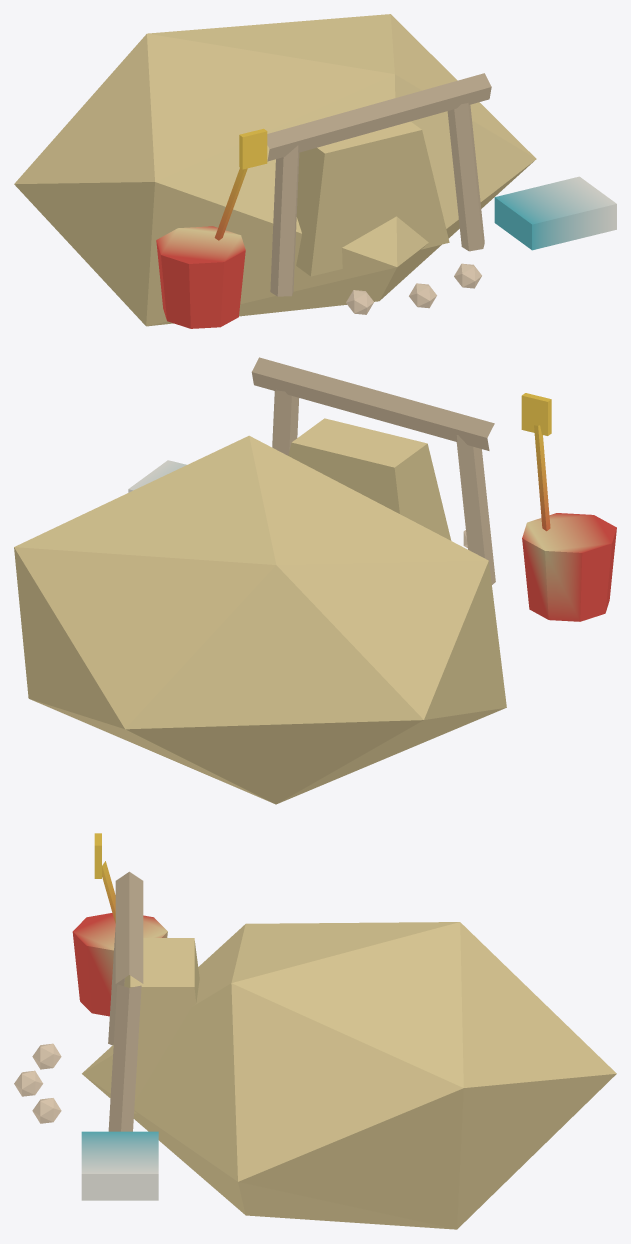
The model's file is burrow_0.glb.
3 renders of one model, top to bottom at view 1: azimuth 30°, elevation 25°; view 2: azimuth 150°, elevation 25°; view 3: azimuth 270°, elevation 25°, orthographic. The views are drawn at different scales.
Visible parts, largest first — view 1: Burrow; view 2: Burrow; view 3: Burrow.
Boxes of the visible parts, x1,y1,x2,y2 form: Burrow: (14,14,616,328); Burrow: (14,357,616,804); Burrow: (14,833,616,1229).
Bounding box in the file's own units: 2.83 × 1.69 × 3.29.
